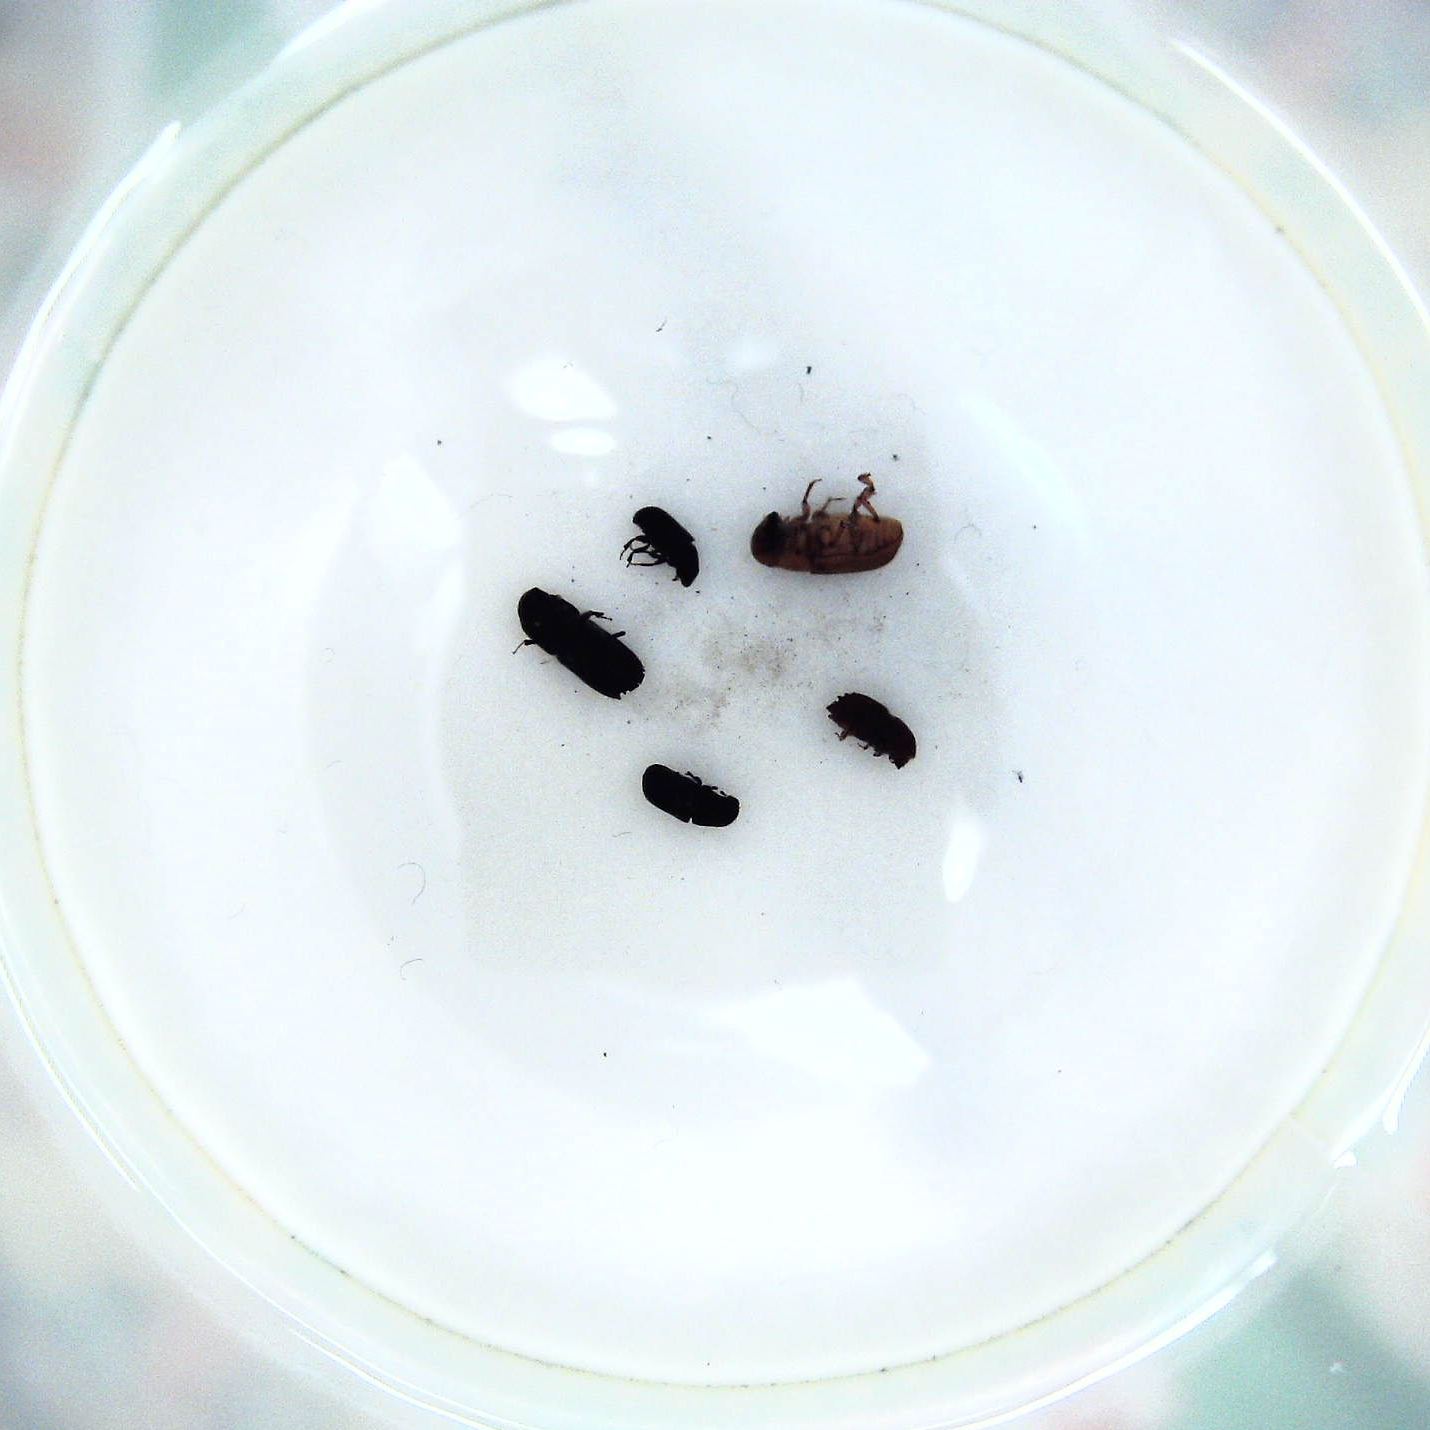Boerner: (515, 587, 651, 705)
Leconte: (748, 470, 909, 575)
armandi: (634, 758, 741, 834)
coleoptera: (617, 502, 707, 595)
linnaeus: (829, 691, 919, 773)
